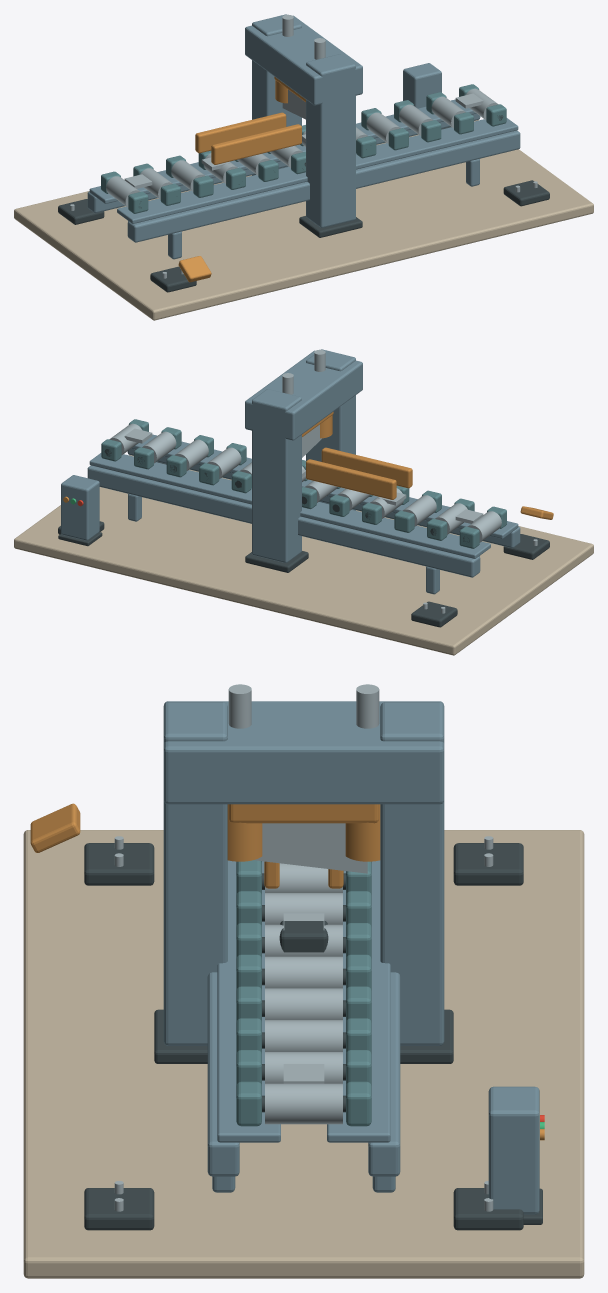
The model's file is CUT-BILLET-lod0.glb.
3 views of the same model, one above another, from view 1: azimuth 30°, elevation 25°; view 2: azimuth 150°, elevation 25°; view 3: azimuth 270°, elevation 25° (orthographic). The views are drawn at different scales.
Parts seen in each view (by area): view 1: foundation, shear_column_0.85, bed_side_0.63, bearing_seat_0.63, hydraulic_bridge, shear_column_-0.85, section_guide_1, section_guide_-1, control_cabinet, bearing_seat_-0.63, bed_side_-0.63, foot_3.2_1.45 (+13 smaller); view 2: foundation, shear_column_-0.85, bed_side_-0.63, hydraulic_bridge, bearing_seat_-0.63, control_cabinet, shear_column_0.85, section_guide_-1, section_guide_1, bearing_seat_0.63, bed_side_0.63, foot_-3.2_-1.45 (+9 smaller); view 3: foundation, hydraulic_bridge, shear_column_-0.85, shear_column_0.85, control_cabinet, bearing_seat_0.63, bearing_seat_-0.63, section_shear_blade, support_roll_11, bed_side_-0.63, bed_side_0.63, knife_crosshead (+35 smaller).
Part boxes in pixels (x1,y1,x2,y2): foundation: [14, 120, 593, 320]; shear_column_0.85: [306, 54, 355, 227]; bed_side_0.63: [127, 130, 520, 242]; bearing_seat_0.63: [117, 118, 518, 223]; hydraulic_bridge: [245, 15, 362, 105]; shear_column_-0.85: [252, 14, 301, 175]; section_guide_1: [211, 124, 301, 164]; section_guide_-1: [195, 112, 286, 153]; control_cabinet: [403, 63, 441, 108]; bearing_seat_-0.63: [89, 99, 476, 203]; bed_side_-0.63: [87, 113, 480, 213]; foot_3.2_1.45: [503, 180, 549, 206]; foundation: [14, 455, 593, 655]; shear_column_-0.85: [252, 389, 301, 562]; bed_side_-0.63: [87, 465, 480, 577]; hydraulic_bridge: [245, 350, 362, 440]; bearing_seat_-0.63: [89, 453, 490, 558]; control_cabinet: [61, 475, 99, 540]; shear_column_0.85: [306, 349, 355, 510]; section_guide_-1: [306, 459, 396, 499]; section_guide_1: [321, 447, 412, 488]; bearing_seat_0.63: [131, 434, 518, 538]; bed_side_0.63: [127, 448, 520, 548]; foot_-3.2_-1.45: [411, 601, 457, 627]; foundation: [23, 830, 584, 1278]; hydraulic_bridge: [163, 701, 444, 804]; shear_column_-0.85: [380, 702, 444, 1045]; shear_column_0.85: [163, 702, 227, 1045]; control_cabinet: [488, 1086, 539, 1214]; bearing_seat_0.63: [217, 860, 280, 1142]; bearing_seat_-0.63: [327, 860, 390, 1142]; section_shear_blade: [253, 823, 367, 873]; support_roll_11: [265, 1083, 342, 1124]; bed_side_-0.63: [368, 972, 400, 1176]; bed_side_0.63: [207, 972, 239, 1176]; knife_crosshead: [229, 804, 378, 823].
Size of the model in its own units: 8 by 3.28 by 4.4.
